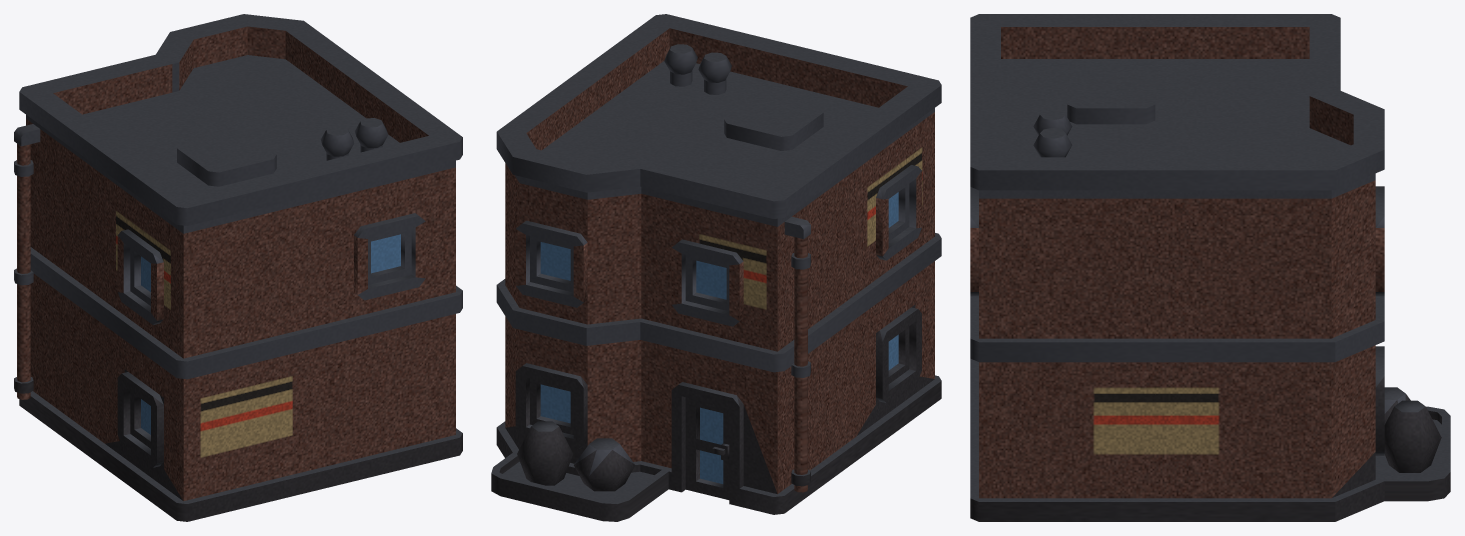
The model's file is building-c-brown-scuffed.glb.
The picture shows the model from 3 angles, left to right: view 1: azimuth 30°, elevation 25°; view 2: azimuth 150°, elevation 25°; view 3: azimuth 270°, elevation 25°; orthographic projection. The views are drawn at different scales.
Parts seen in each view (by area): view 1: building-c-brown-scuffed; view 2: building-c-brown-scuffed; view 3: building-c-brown-scuffed.
Boxes of the visible parts, x1,y1,x2,y2 form: building-c-brown-scuffed: [14, 14, 462, 521]; building-c-brown-scuffed: [491, 14, 941, 521]; building-c-brown-scuffed: [970, 14, 1450, 521].
Size of the model in its own units: 0.8836 by 0.893 by 1.09.
1 material, 1 textured.
